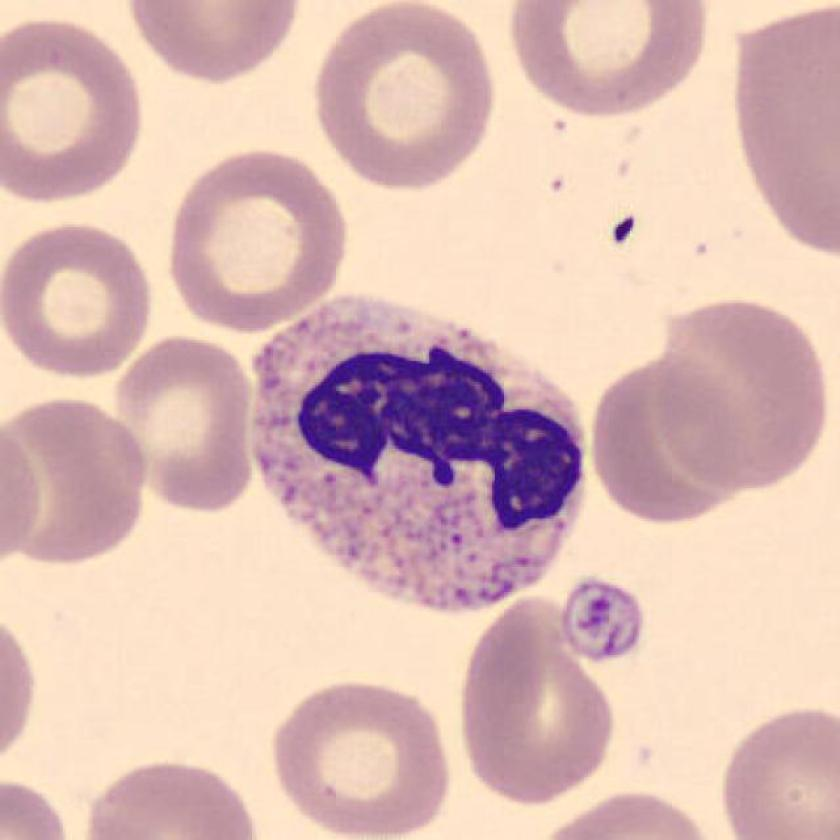neutrophil: (250, 300, 585, 614)
